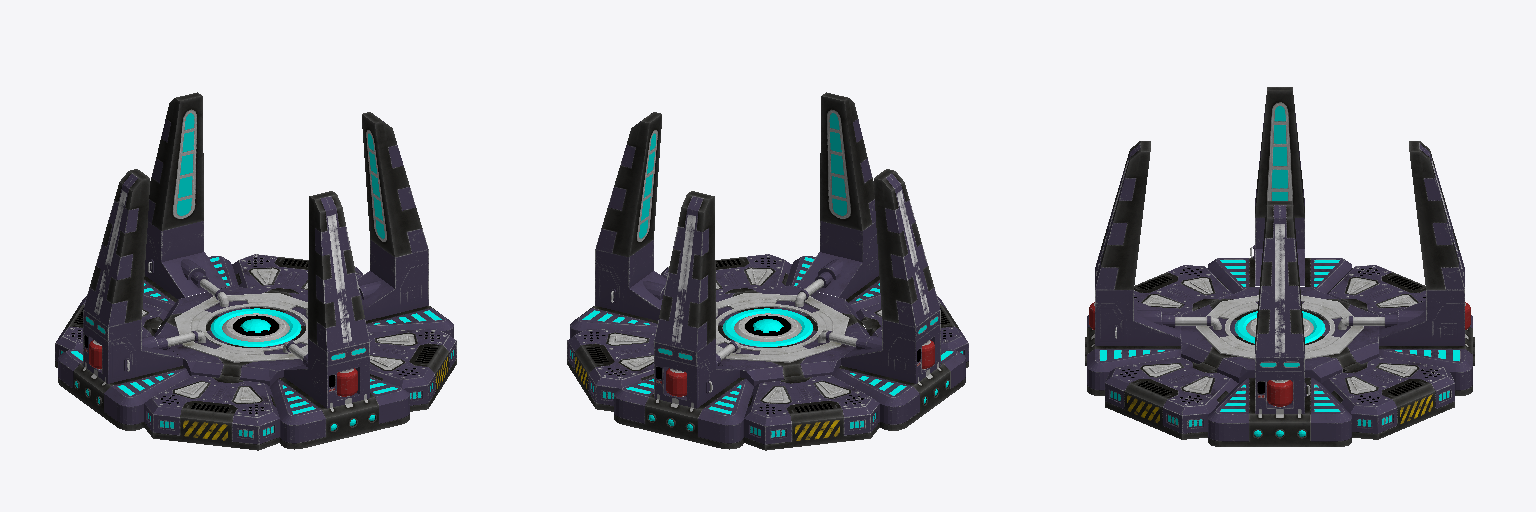
The picture shows the model from 3 angles: view 1: azimuth 30°, elevation 25°; view 2: azimuth 150°, elevation 25°; view 3: azimuth 270°, elevation 25°; orthographic projection.
Parts seen in each view (by area): view 1: Teleport_Circle.020_Teleport_Circle.020_Material.003; view 2: Teleport_Circle.020_Teleport_Circle.020_Material.003; view 3: Teleport_Circle.020_Teleport_Circle.020_Material.003.
Part boxes in pixels (left/top/right/bottom): Teleport_Circle.020_Teleport_Circle.020_Material.003: left=55, top=92, right=456, bottom=450; Teleport_Circle.020_Teleport_Circle.020_Material.003: left=567, top=92, right=968, bottom=450; Teleport_Circle.020_Teleport_Circle.020_Material.003: left=1085, top=87, right=1474, bottom=446.
Size of the model in its own units: 8.05 by 5 by 8.05.
2 materials, 2 textured.